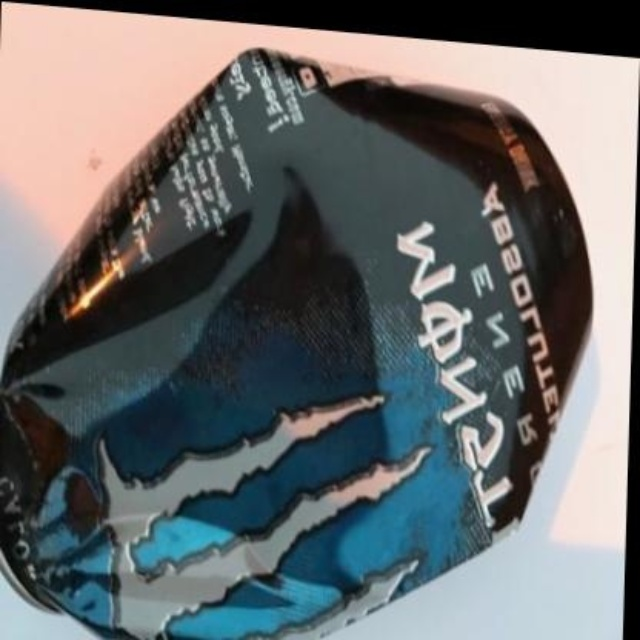trash: (0, 49, 591, 638)
